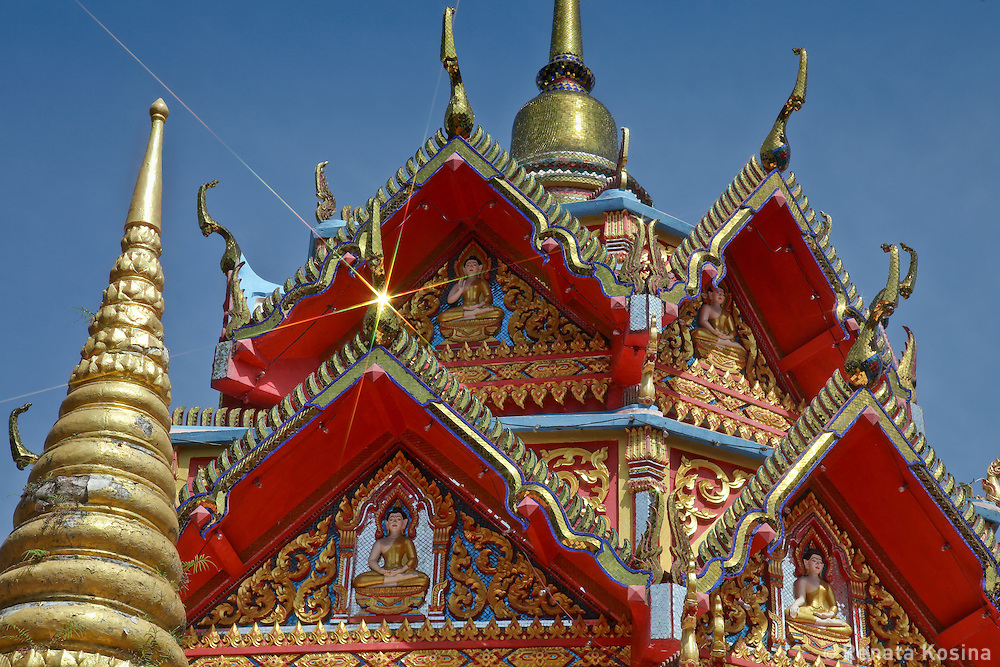Buddhist Temple: (75, 10, 895, 643)
